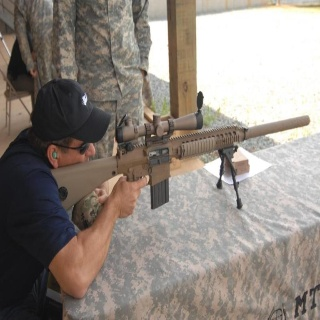rifle: (49, 90, 310, 210)
